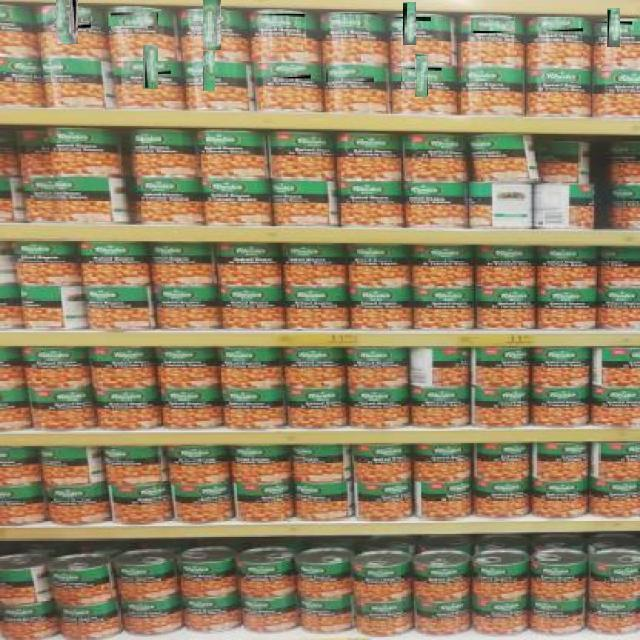Beans: (56, 0, 78, 44), (318, 14, 379, 29), (203, 0, 221, 50), (529, 18, 584, 33), (327, 66, 374, 83), (260, 65, 312, 80), (107, 11, 158, 26), (252, 14, 306, 28), (471, 18, 515, 33), (143, 46, 158, 89), (414, 54, 428, 97), (404, 1, 416, 45), (203, 51, 215, 91), (608, 7, 620, 47)
